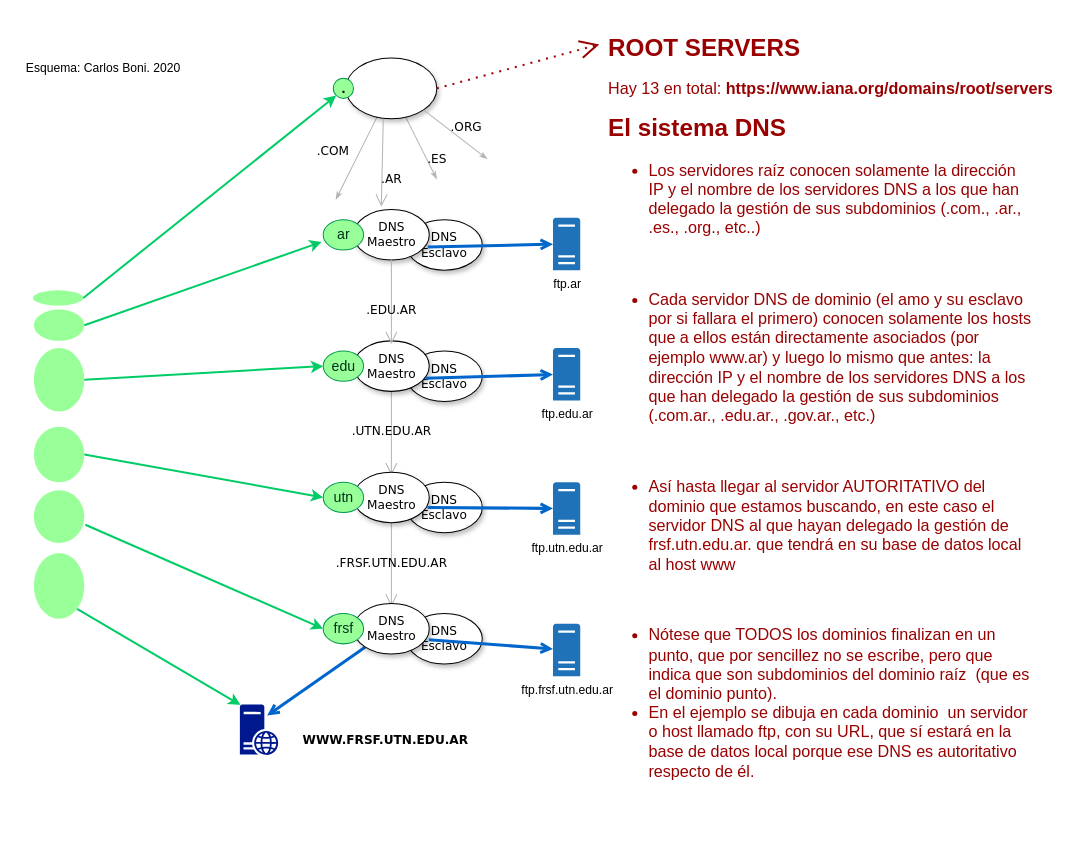
Image size: 1085x852. Some labels were removed from this diagram. The centre of each missing label's shape, as x and y in pixels:
"DNS RAÍZ" belongs at (x=392, y=89).
"www . frsf . utn . edu . ar ./" belongs at (x=58, y=454).
